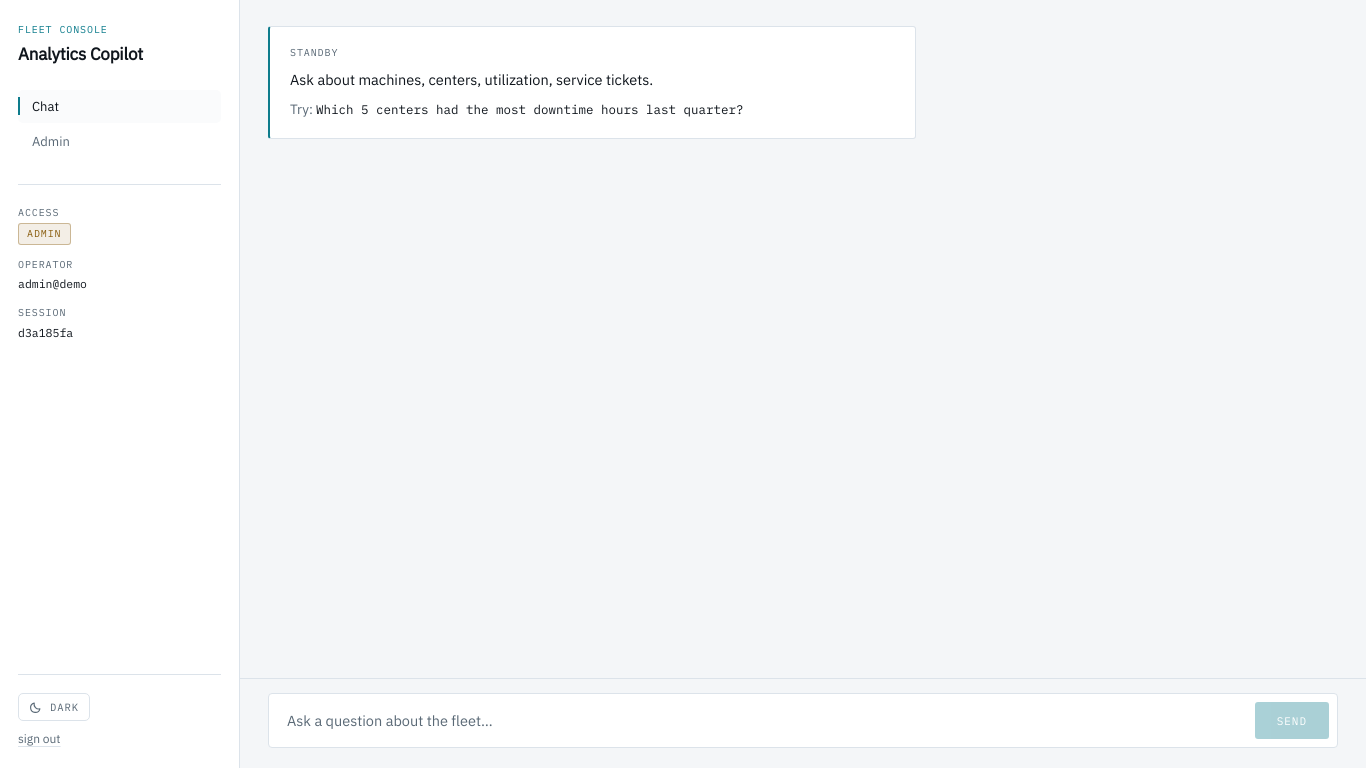
Test: a fetch failure shows a plain error line, not a crash
Click the button "Admin".
click(120, 141)  # box [18,125,221,158]
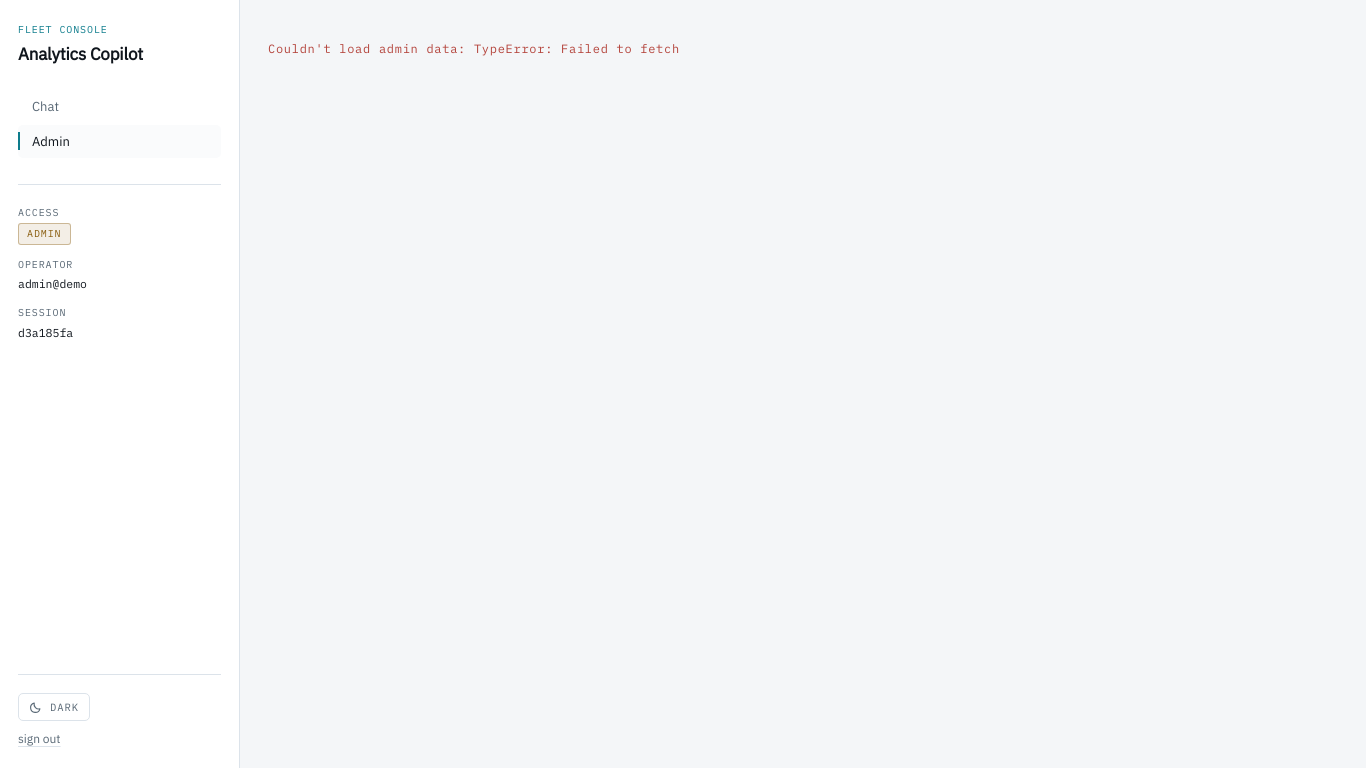
Result: the text "Couldn't load admin data: TypeError: Failed to fetch" is shown at [268,41,680,56]
